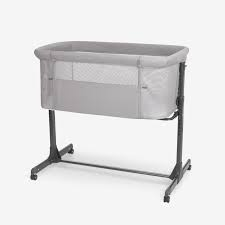crib: (30, 36, 190, 204)
